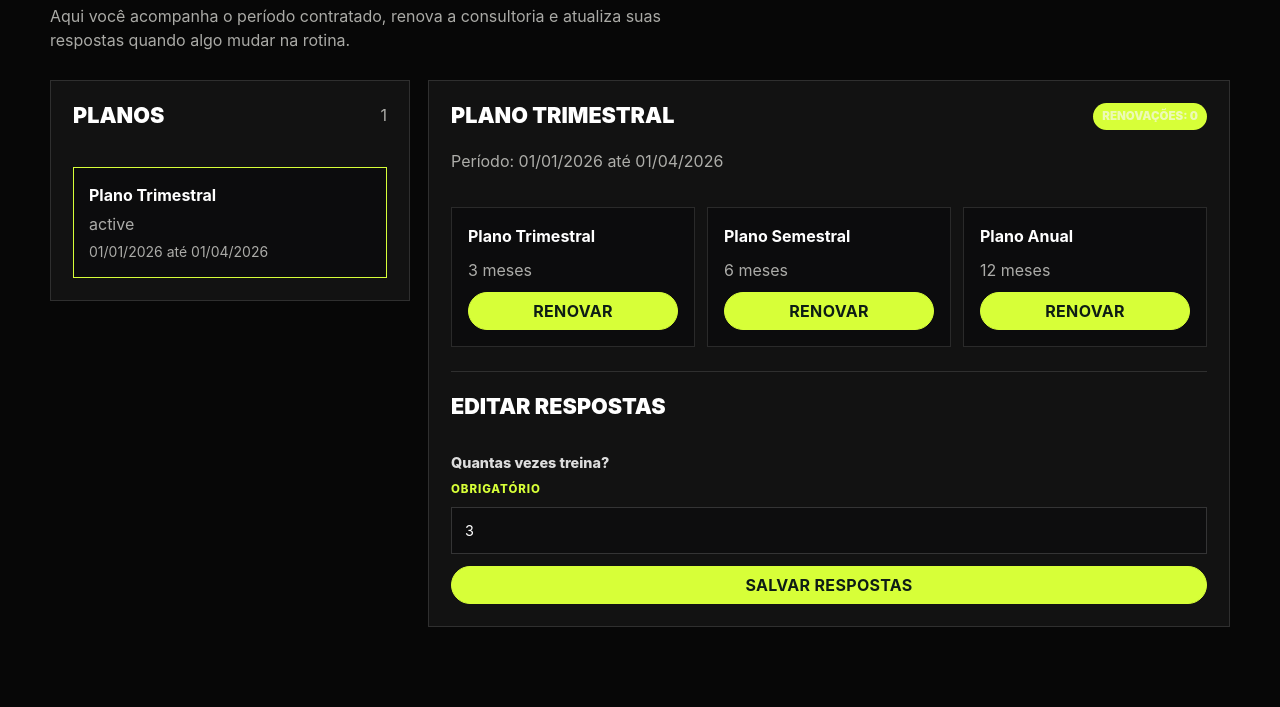
Test: SubscriberArea › shows a generic save error
(page scrolled)
Click the button "Salvar respostas" at [829, 585], box [451, 566, 1207, 604]
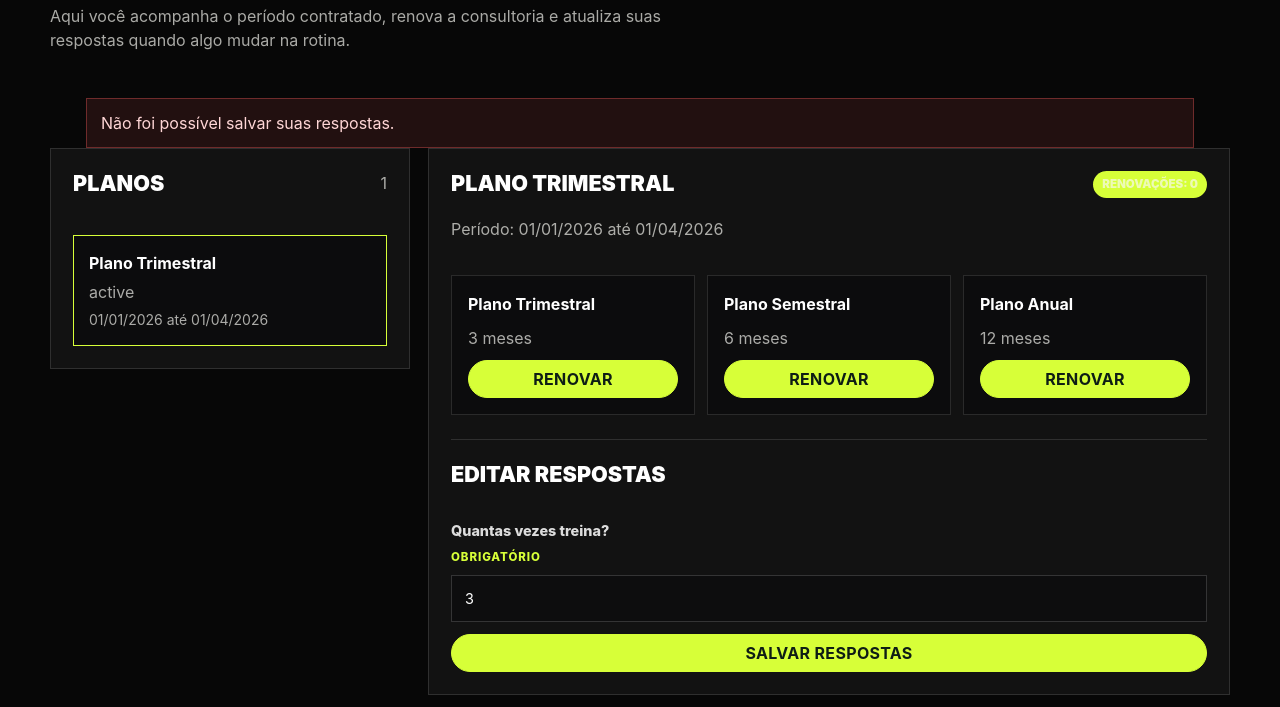
Check: the text "Não foi possível salvar suas respostas." is shown, box [86, 98, 1194, 148]
